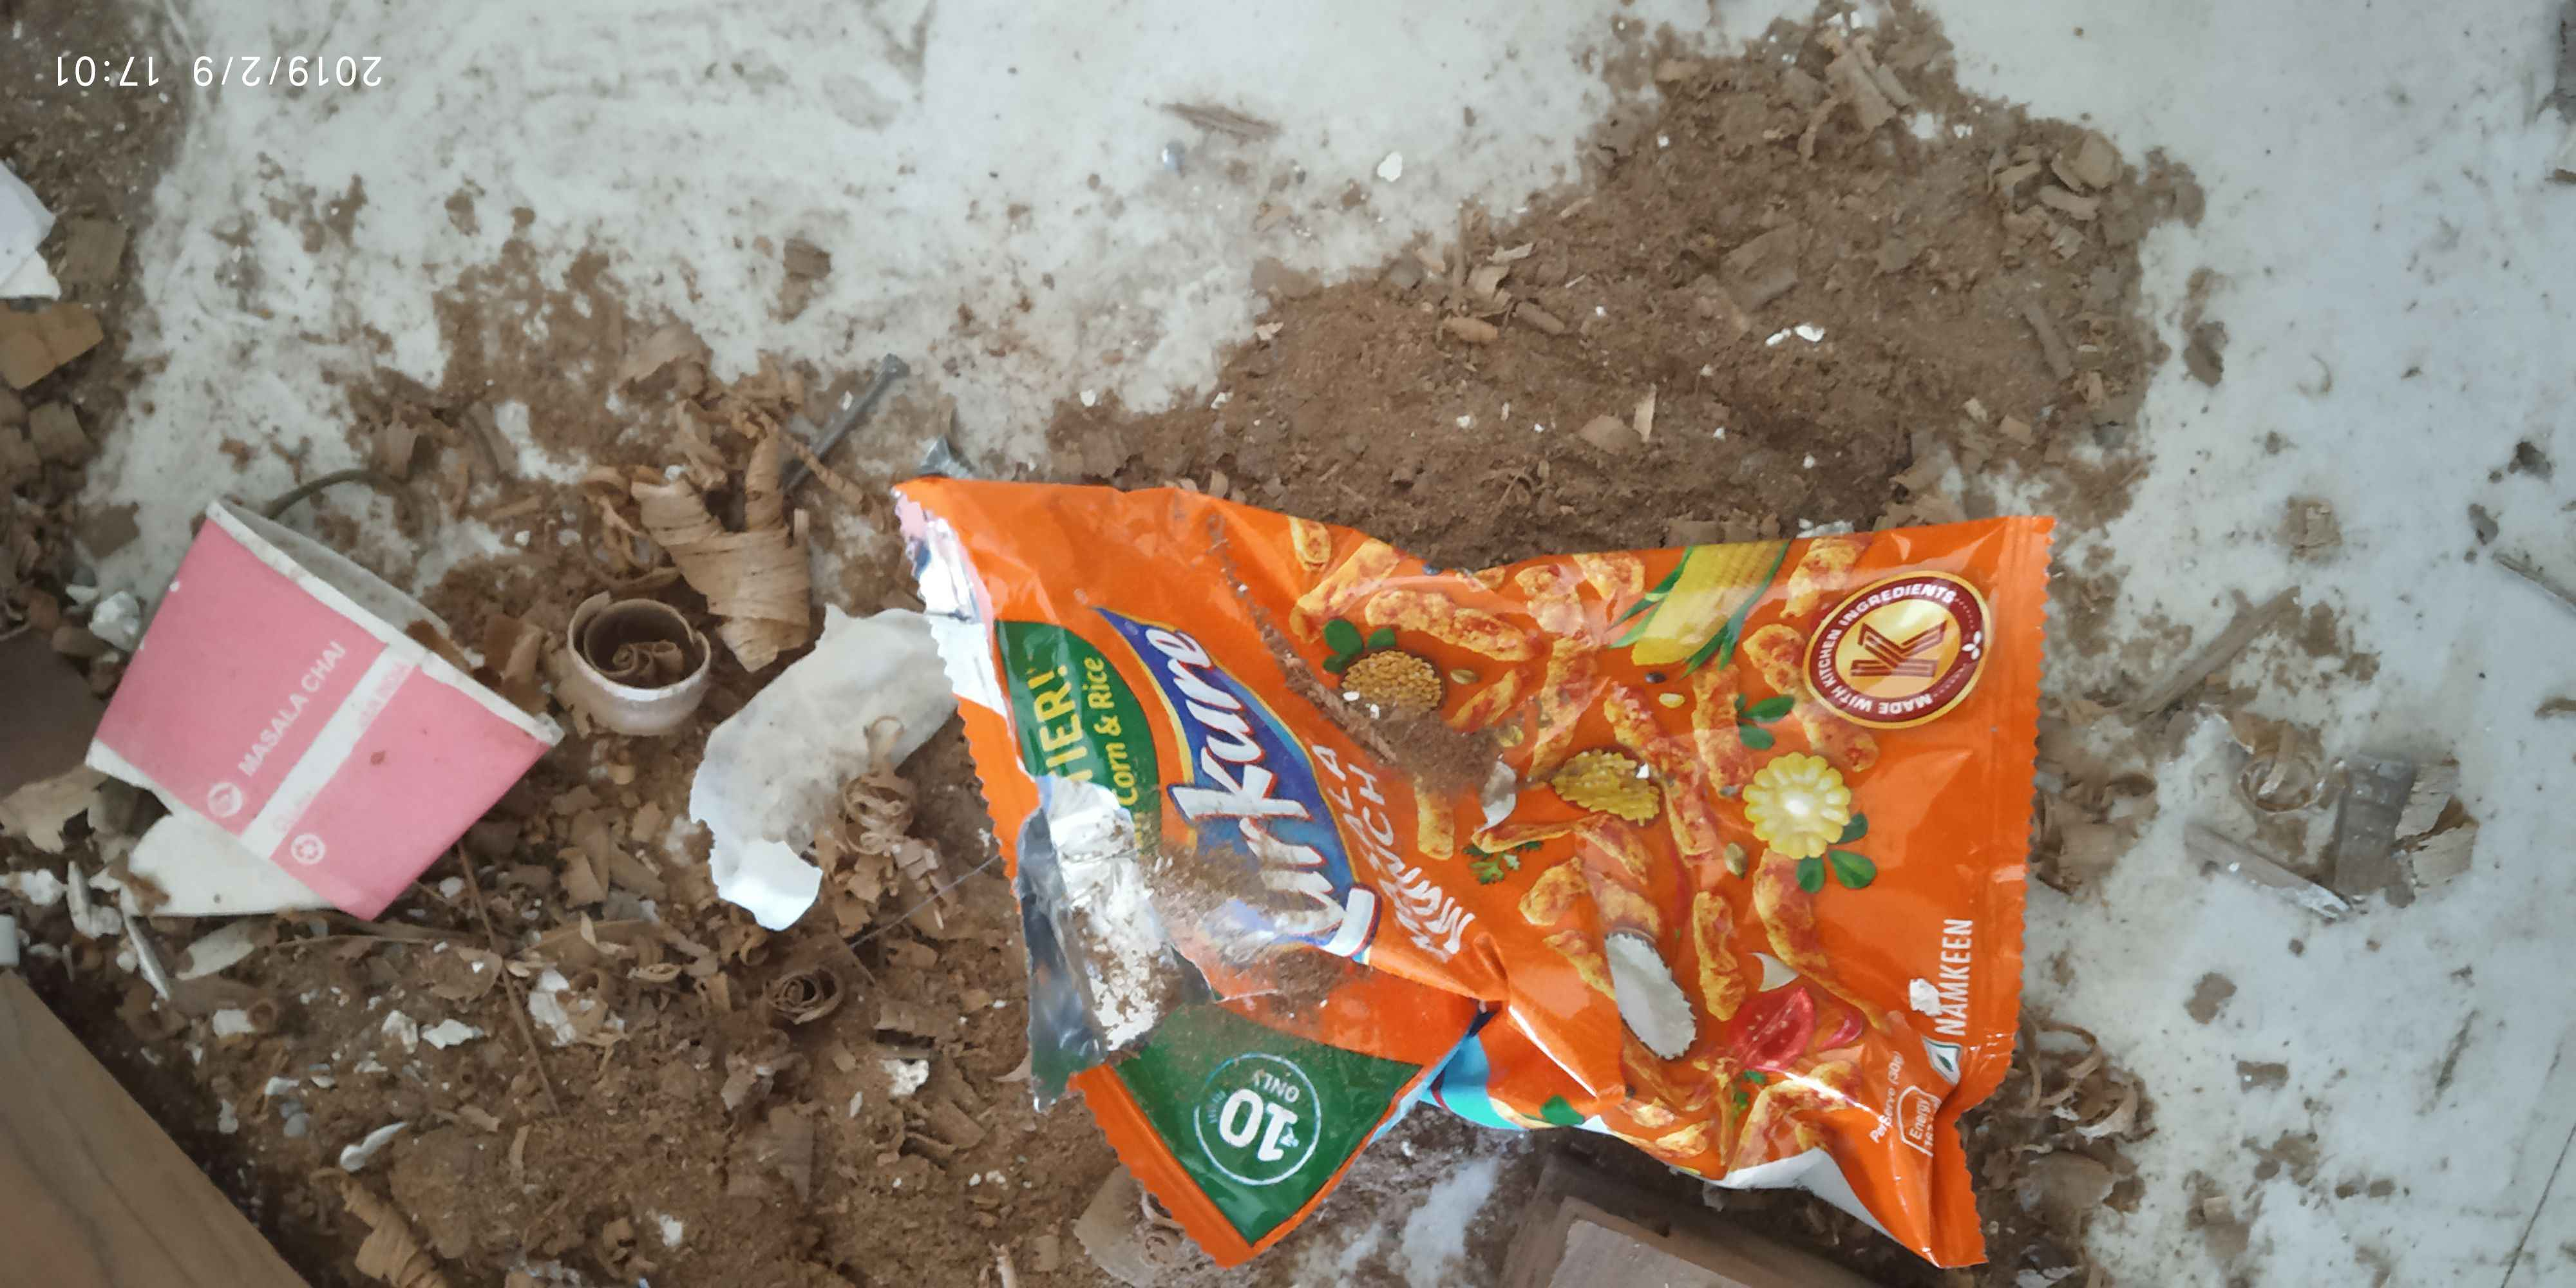kurkure: (1127, 583, 1390, 991)
